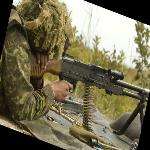Senapan: (26, 40, 150, 148)
